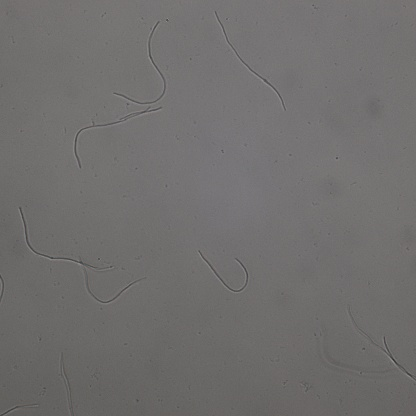Sensitive: (216, 12, 286, 110), (19, 207, 113, 268), (73, 107, 161, 169), (349, 308, 416, 381), (114, 21, 168, 104), (80, 258, 146, 304), (200, 251, 249, 293), (1, 403, 36, 415)
